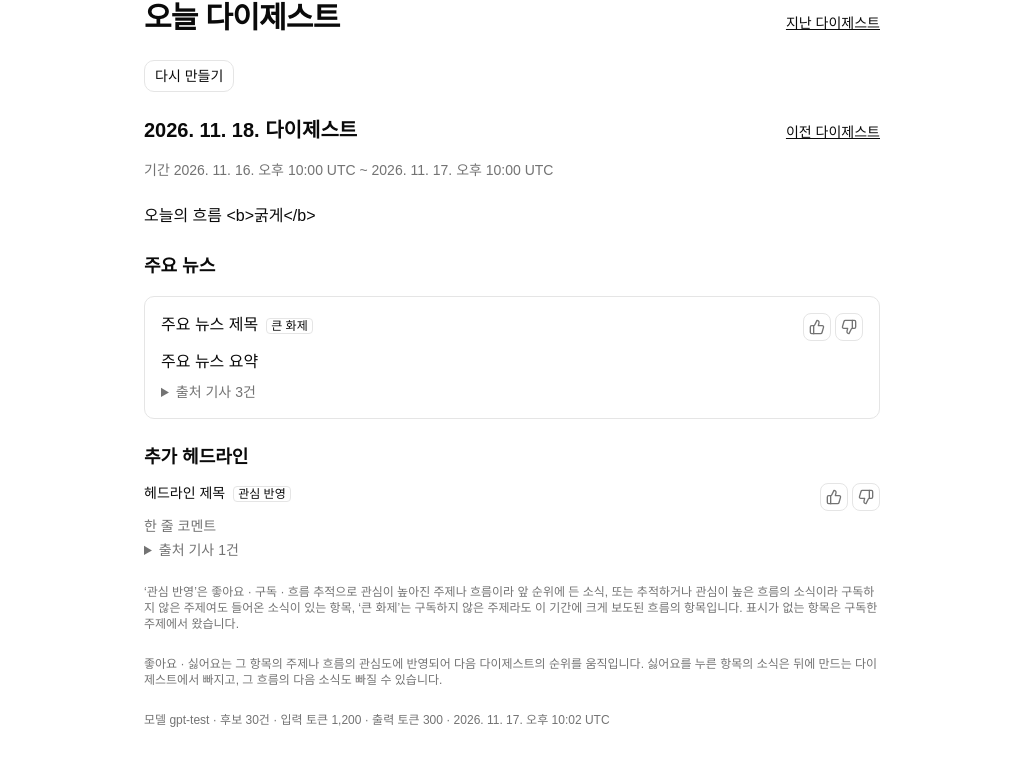
Test: DigestHomePage › 받지 않은 요청은 그 까닭을 알린다 — {"result":"IN_PROGRESS","digestDate":null,"regenerated":null,"resetsAt":null}
The width and height of the screenshot is (1024, 768).
Click the button "다시 만들기". click: (189,76)
box: [144, 60, 234, 92]
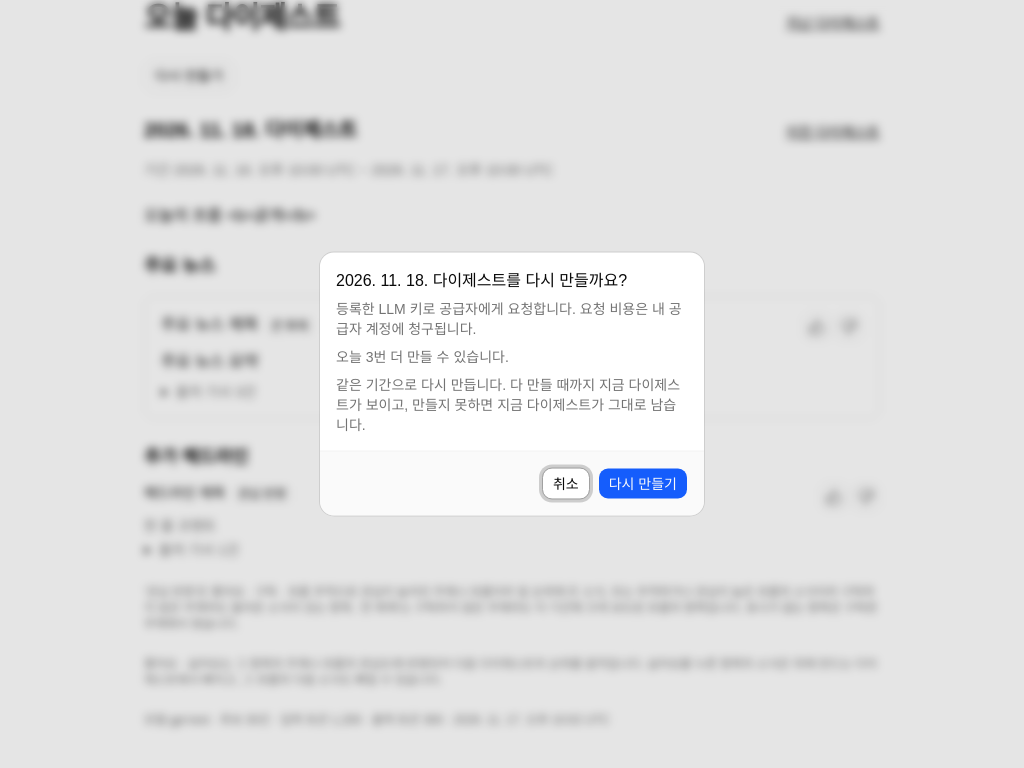
Check: the dialog is shown, box [320, 252, 704, 516]
Click the button "다시 만들기". click: (643,484)
box: [598, 468, 688, 500]
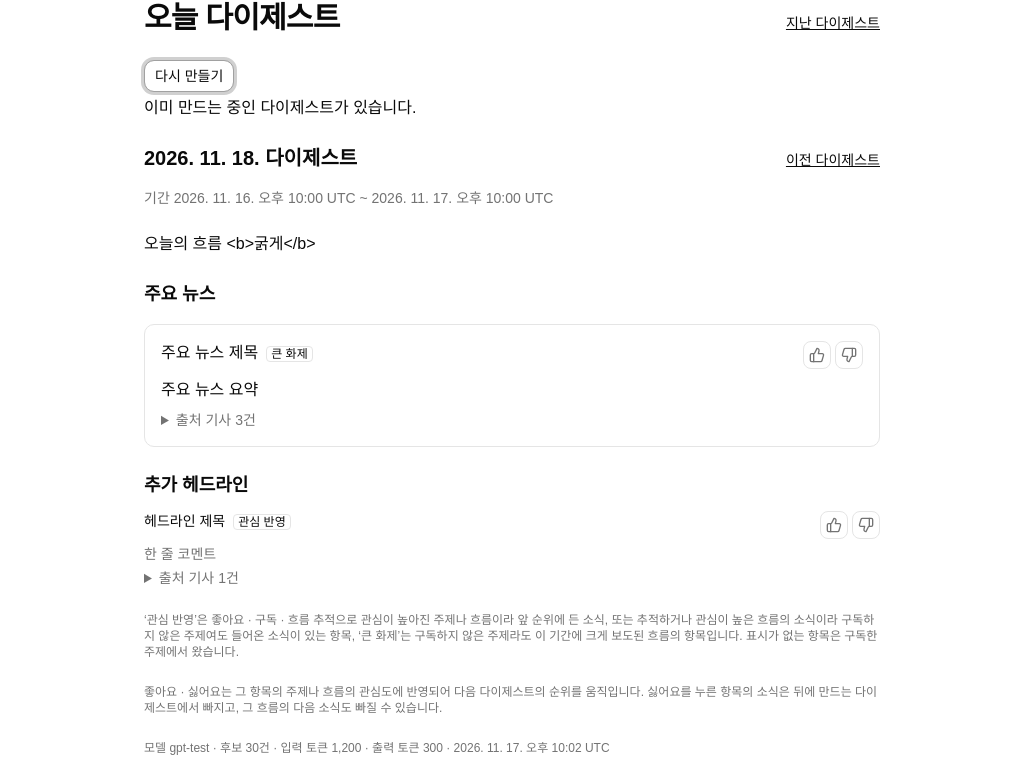
Check: the message reads "이미 만드는 중인 다이제스트가 있습니다.", box [144, 99, 416, 116]
